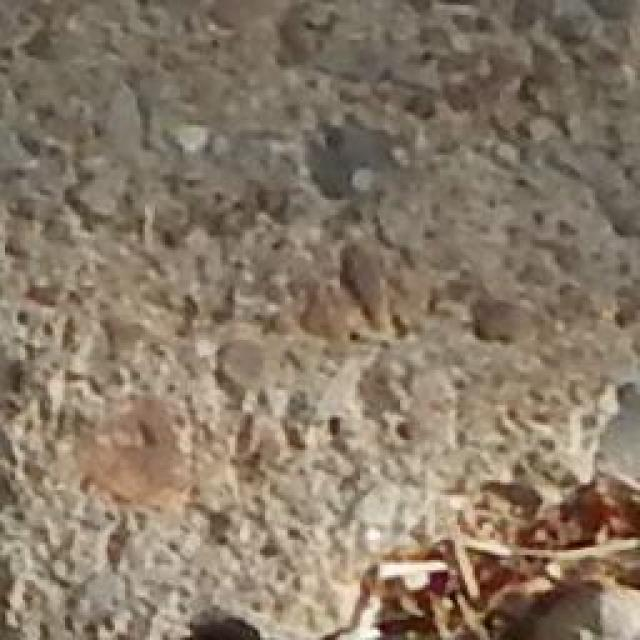concrete-crack: (315, 370, 640, 640), (180, 611, 286, 640)
